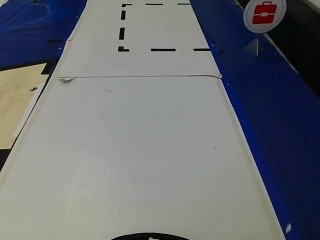company: (238, 0, 287, 33)
